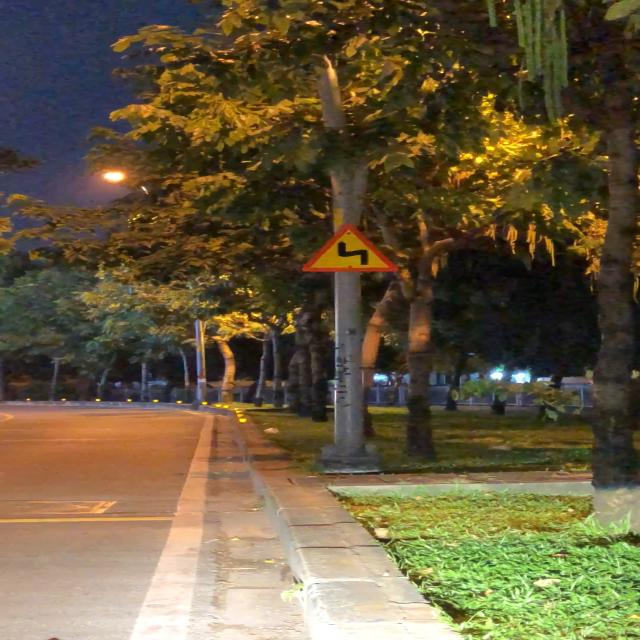Bien bao nhieu cho ngoat nguy hiem lien tiep: (296, 223, 404, 277)
